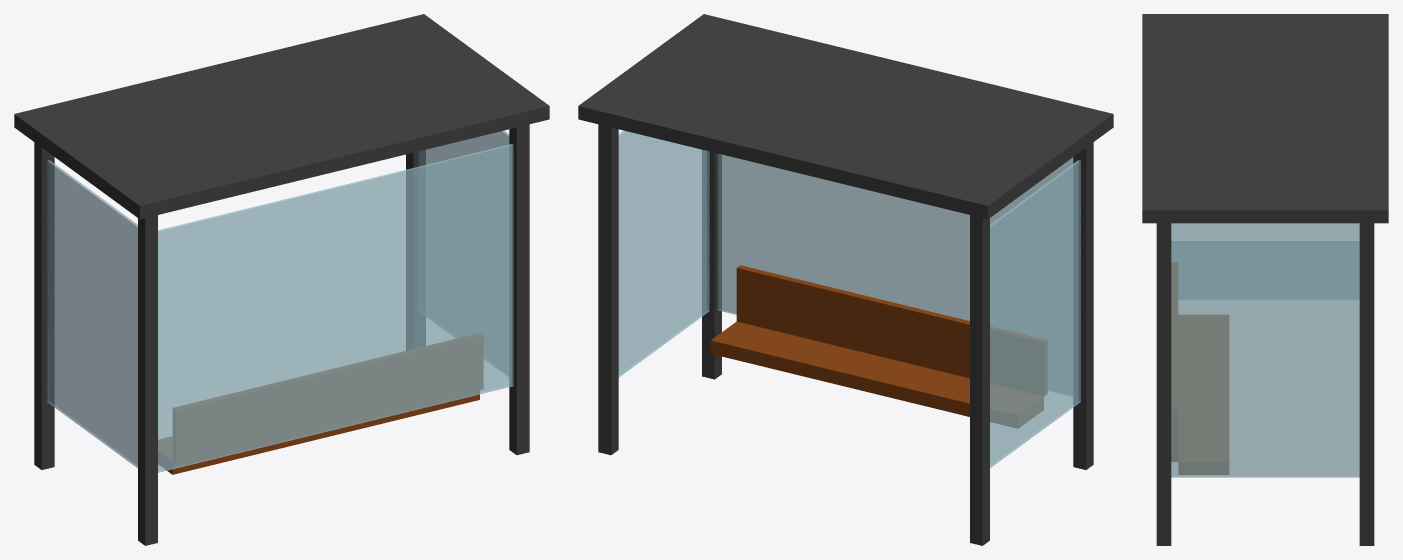
Rendered from bus_stop_001.obj.
The picture shows the model from 3 angles, left to right: view 1: azimuth 30°, elevation 25°; view 2: azimuth 150°, elevation 25°; view 3: azimuth 270°, elevation 25°; orthographic projection.
Parts seen in each view (by area): view 1: bus_stop; view 2: bus_stop; view 3: bus_stop.
Part boxes in pixels (box(x1,y1,x2,y2)): bus_stop: box(14, 14, 549, 545); bus_stop: box(578, 14, 1113, 545); bus_stop: box(1142, 14, 1388, 545).
Size of the model in its own units: 3.2 by 2.6 by 1.7.
